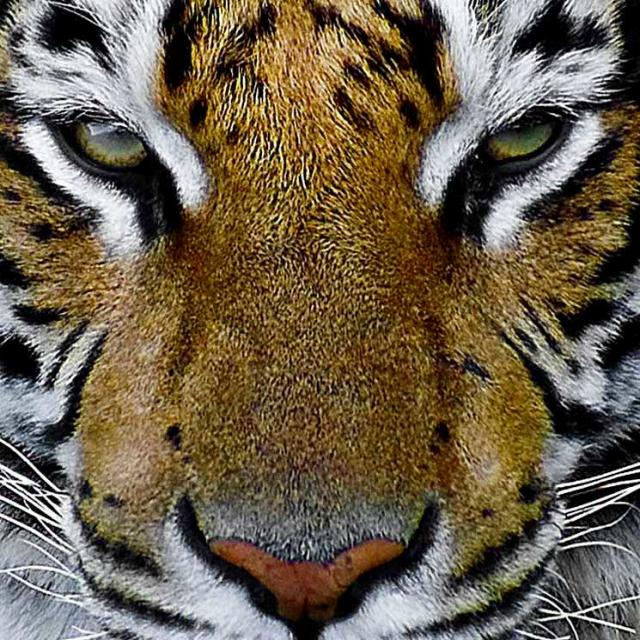Tiger: (0, 0, 633, 638)
